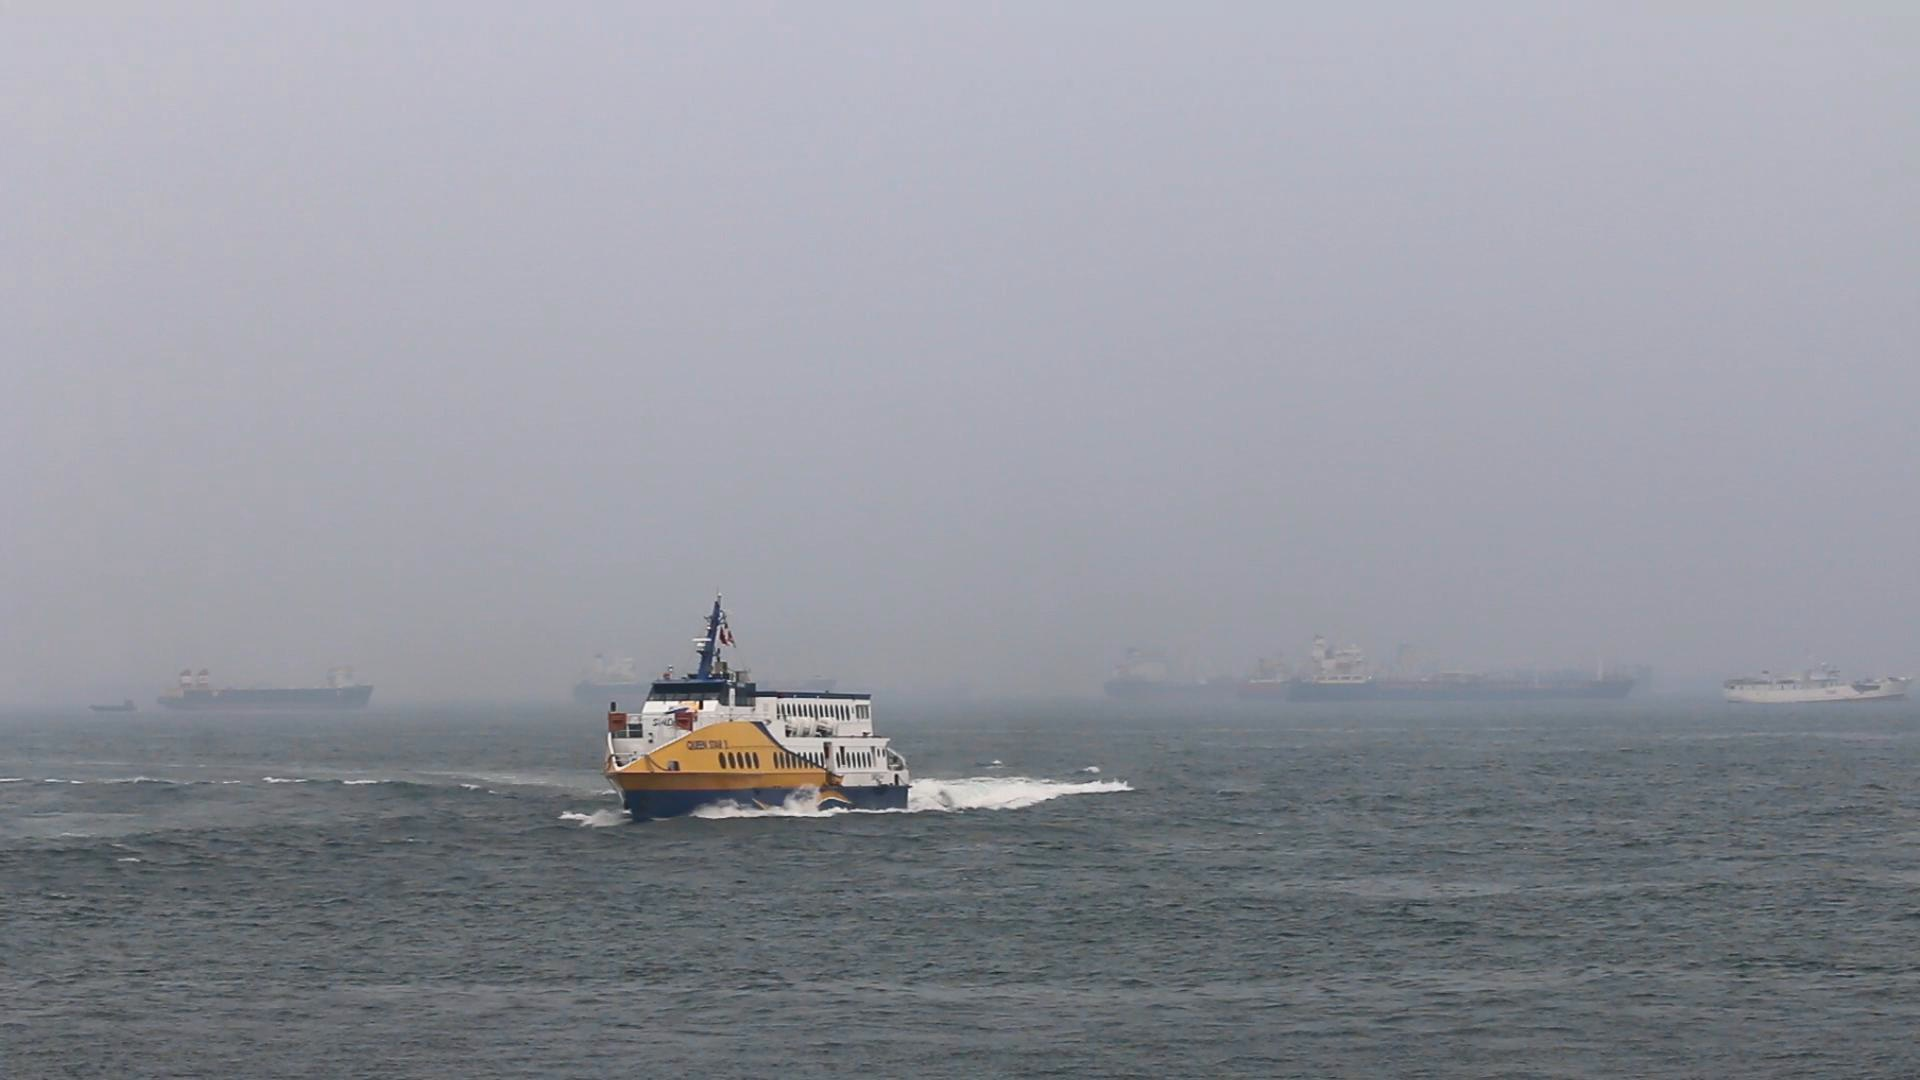Container Ship: (1295, 640, 1638, 704), (571, 646, 839, 699), (1720, 661, 1919, 708), (161, 670, 377, 712), (1105, 650, 1240, 704), (1245, 662, 1290, 703), (91, 694, 144, 716)
